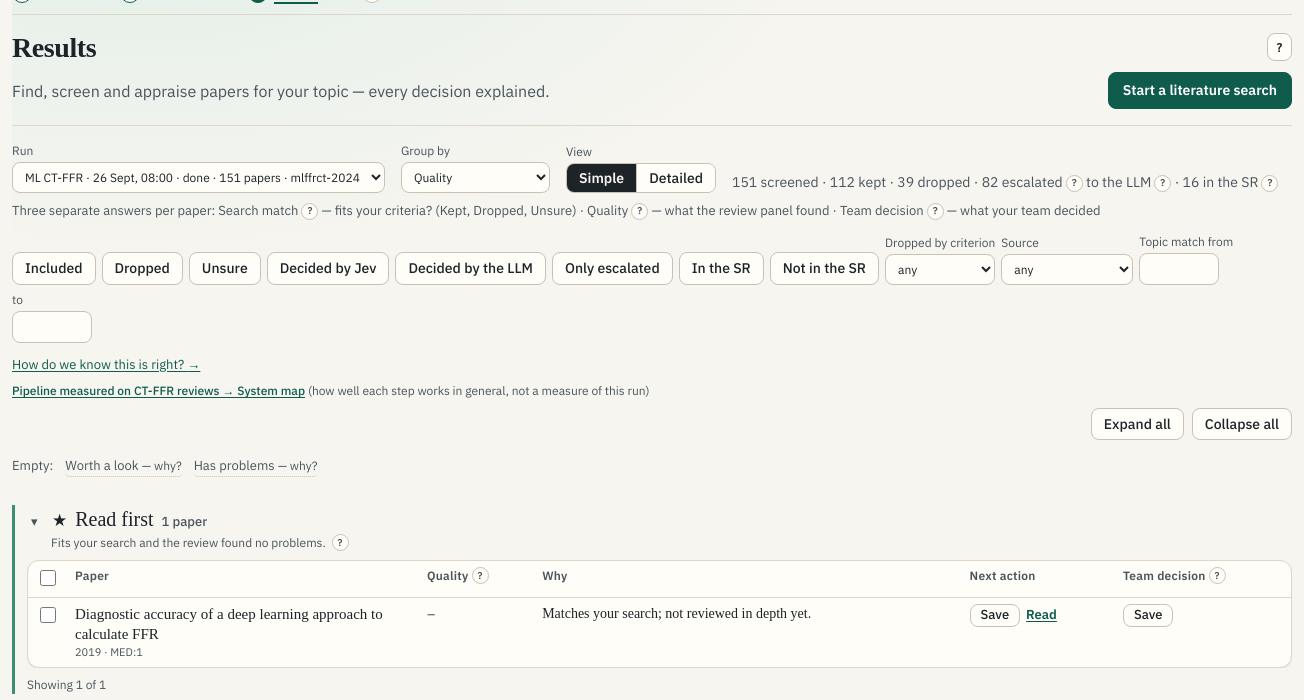
Test case: quality groups › collapse all and expand all
Click the button "Collapse all" at (1242, 424), box top-left (1192, 408), bottom-right (1292, 440)
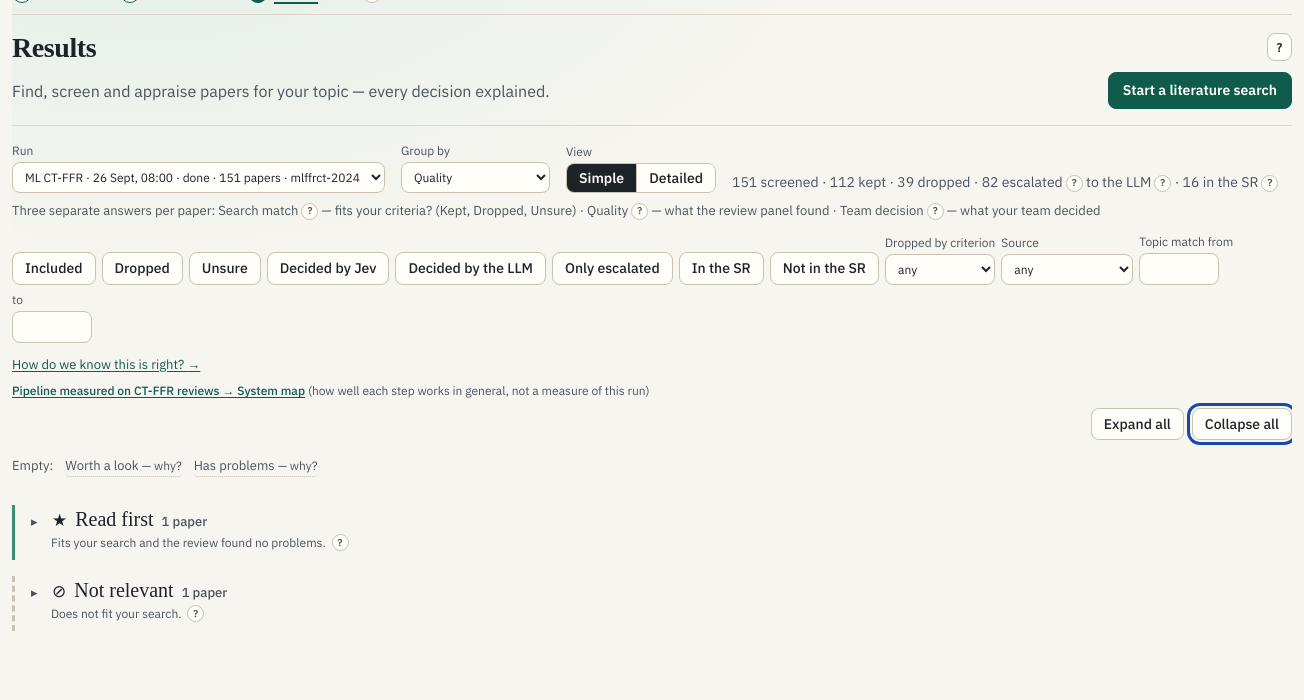
Click the button "Expand all" at (1137, 424), box top-left (1091, 408), bottom-right (1184, 440)
(page scrolled)
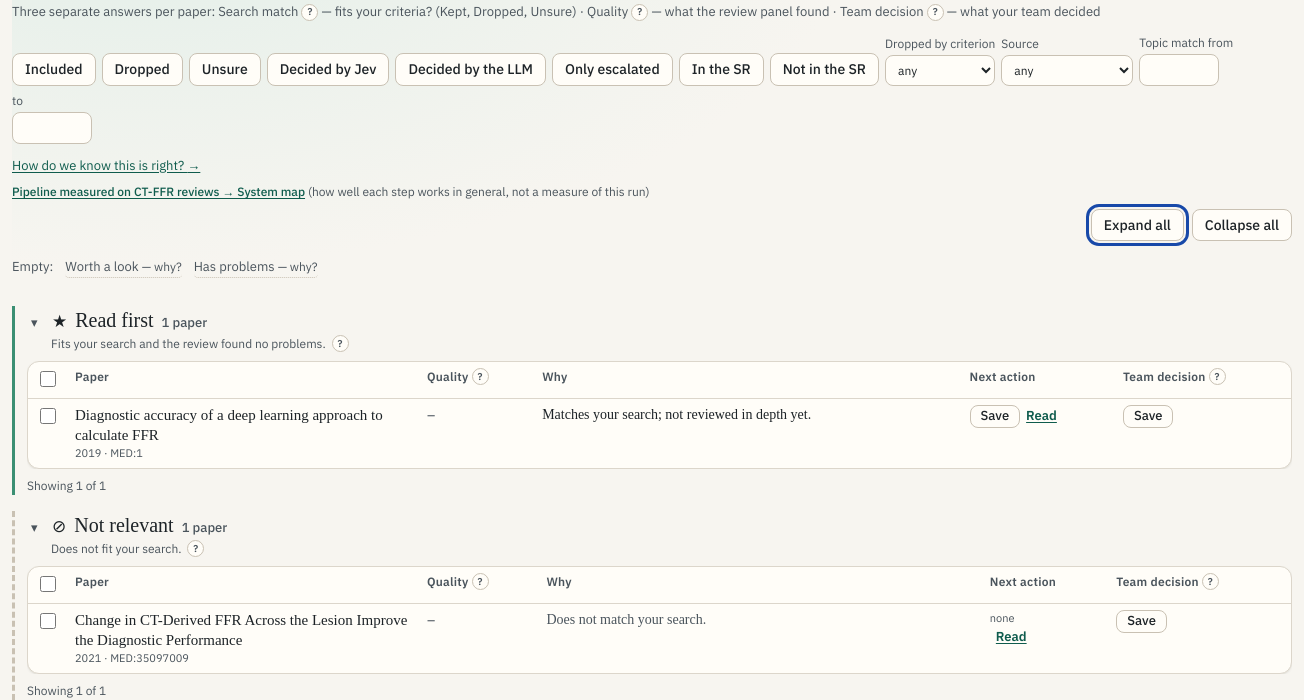
Check: the button "▾ ⊘ Not relevant 1 paper" is expanded, box top-left (27, 511), bottom-right (231, 540)
